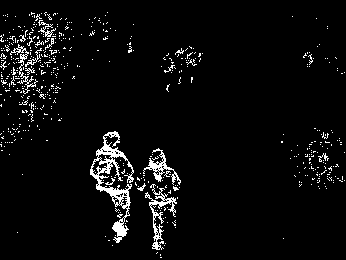person: (89, 128, 135, 244), (133, 145, 182, 252)
